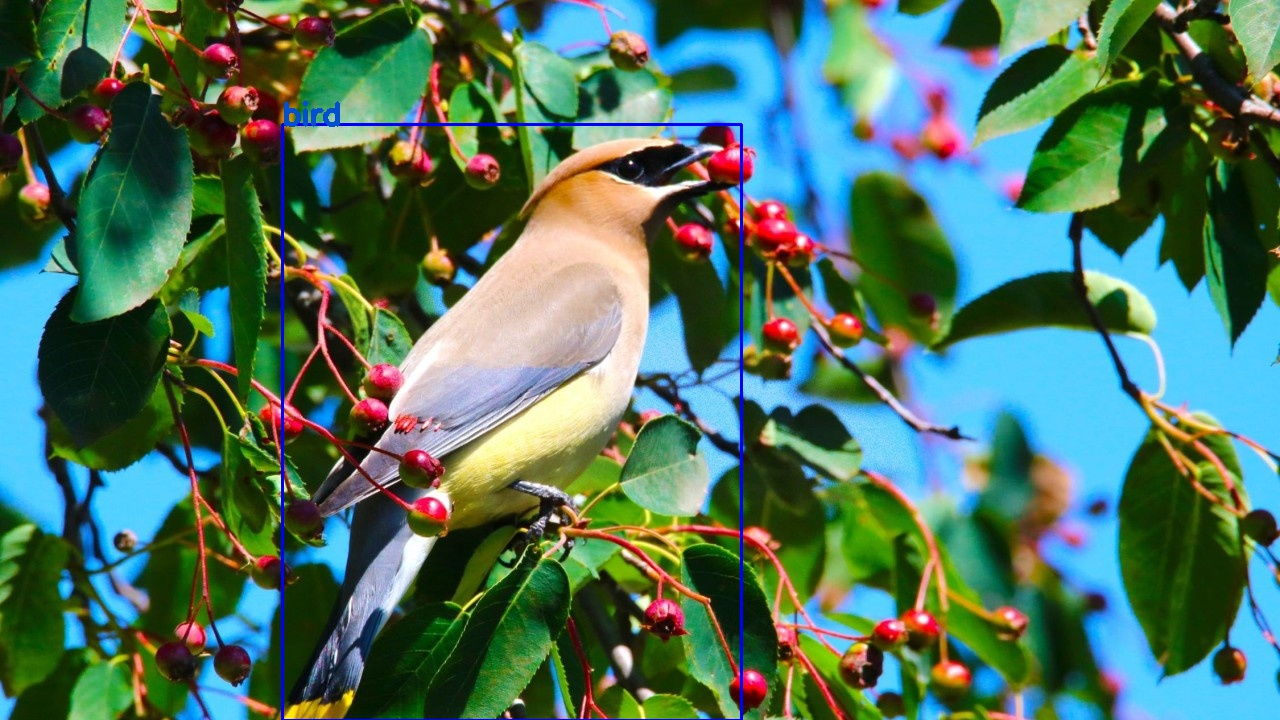bird: (281, 123, 740, 720)
